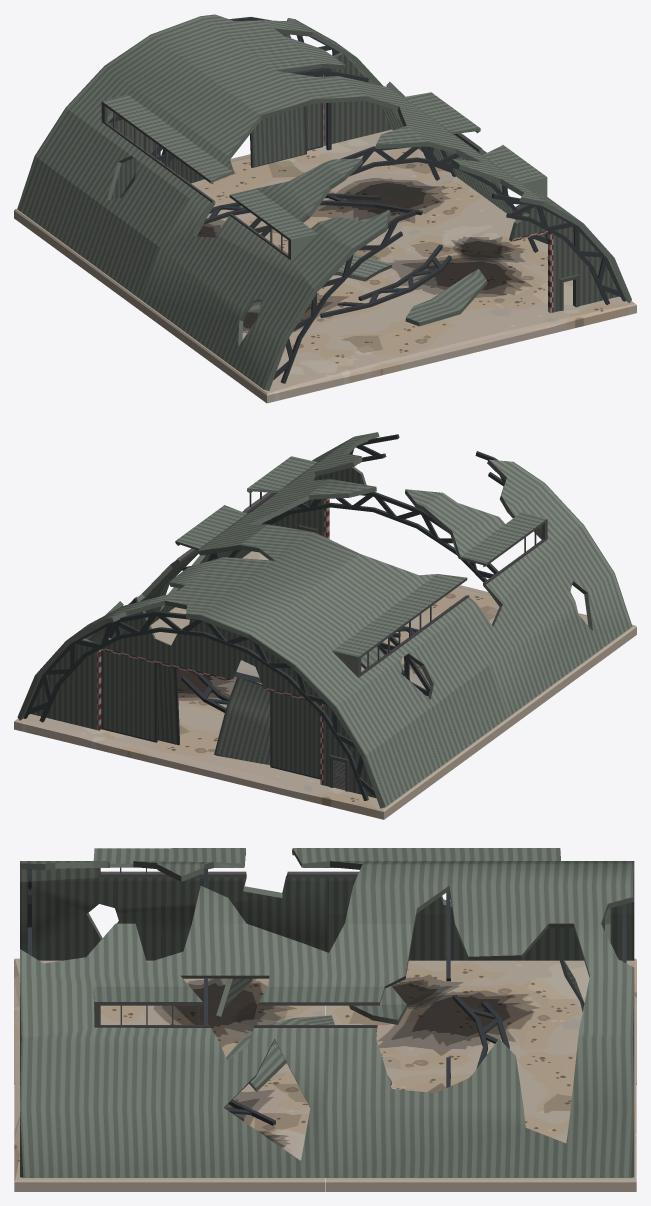
File: SM_Bld_Hangar_Destroyed_01.glb
3 renders of one model, top to bottom at view 1: azimuth 30°, elevation 25°; view 2: azimuth 150°, elevation 25°; view 3: azimuth 270°, elevation 25°, orthographic. The views are drawn at different scales.
Visible parts, largest first — view 1: SM_Bld_Hangar_Destroyed_01; view 2: SM_Bld_Hangar_Destroyed_01; view 3: SM_Bld_Hangar_Destroyed_01.
Boxes of the visible parts, bbox=[...] form: SM_Bld_Hangar_Destroyed_01: bbox=[14, 14, 636, 403]; SM_Bld_Hangar_Destroyed_01: bbox=[14, 432, 636, 819]; SM_Bld_Hangar_Destroyed_01: bbox=[14, 848, 636, 1191].
Size of the model in its own units: 30.63 by 12.59 by 36.26.
1 material, 1 textured.
